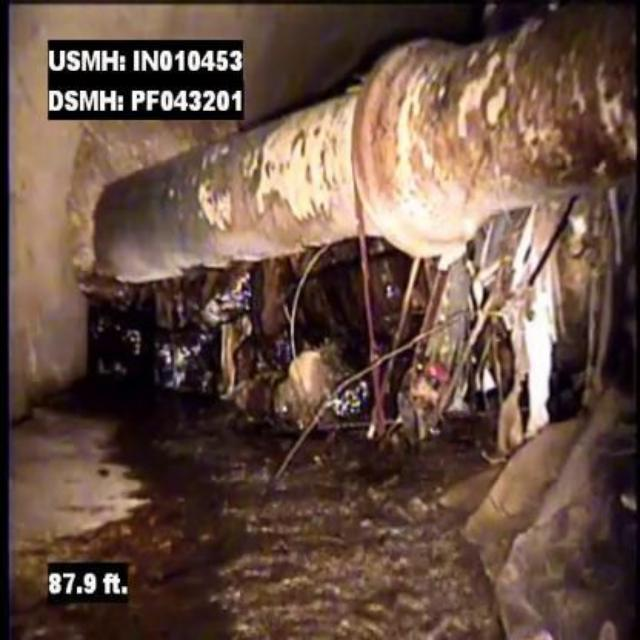Debris: (434, 392, 632, 638)
Utility intrusion: (82, 8, 638, 294)
